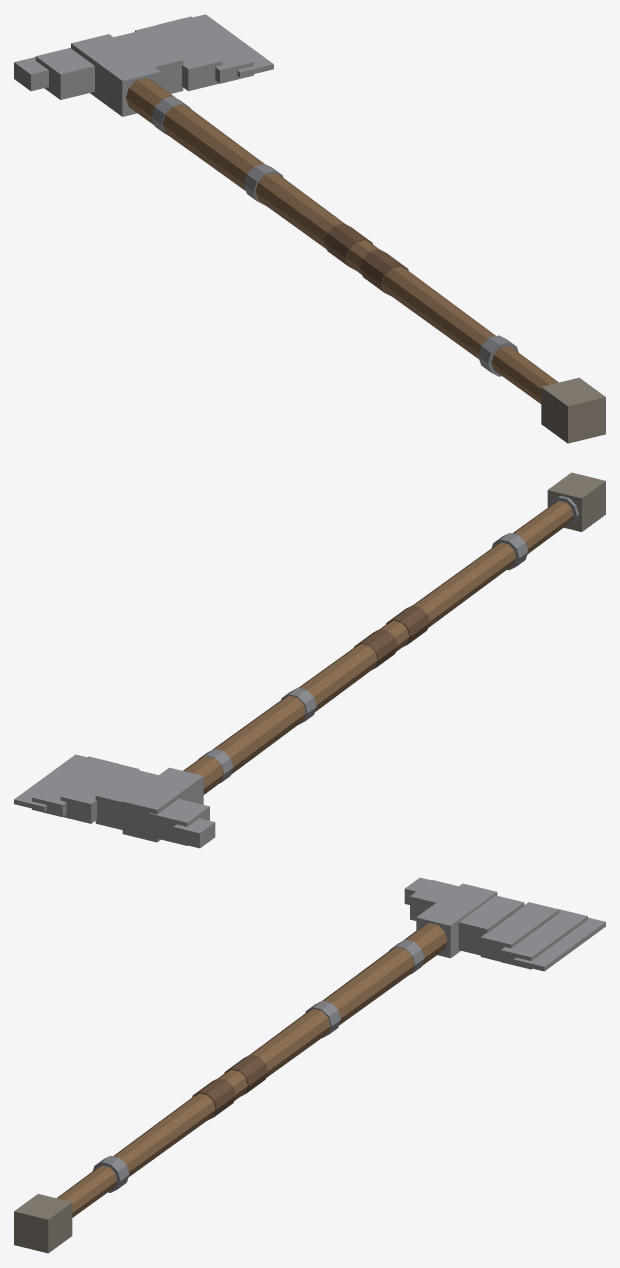
Rendered from SM_HeavyAxe.glb.
3 views of the same model, one above another, from view 1: azimuth 30°, elevation 25°; view 2: azimuth 150°, elevation 25°; view 3: azimuth 330°, elevation 25° (orthographic). The views are drawn at different scales.
Parts seen in each view (by area): view 1: SM_HeavyAxe; view 2: SM_HeavyAxe; view 3: SM_HeavyAxe.
Boxes of the visible parts, x1,y1,x2,y2 form: SM_HeavyAxe: (14,14,605,443); SM_HeavyAxe: (14,472,605,848); SM_HeavyAxe: (14,877,605,1253).
Size of the model in its own units: 0.3235 by 0.058 by 1.43.
